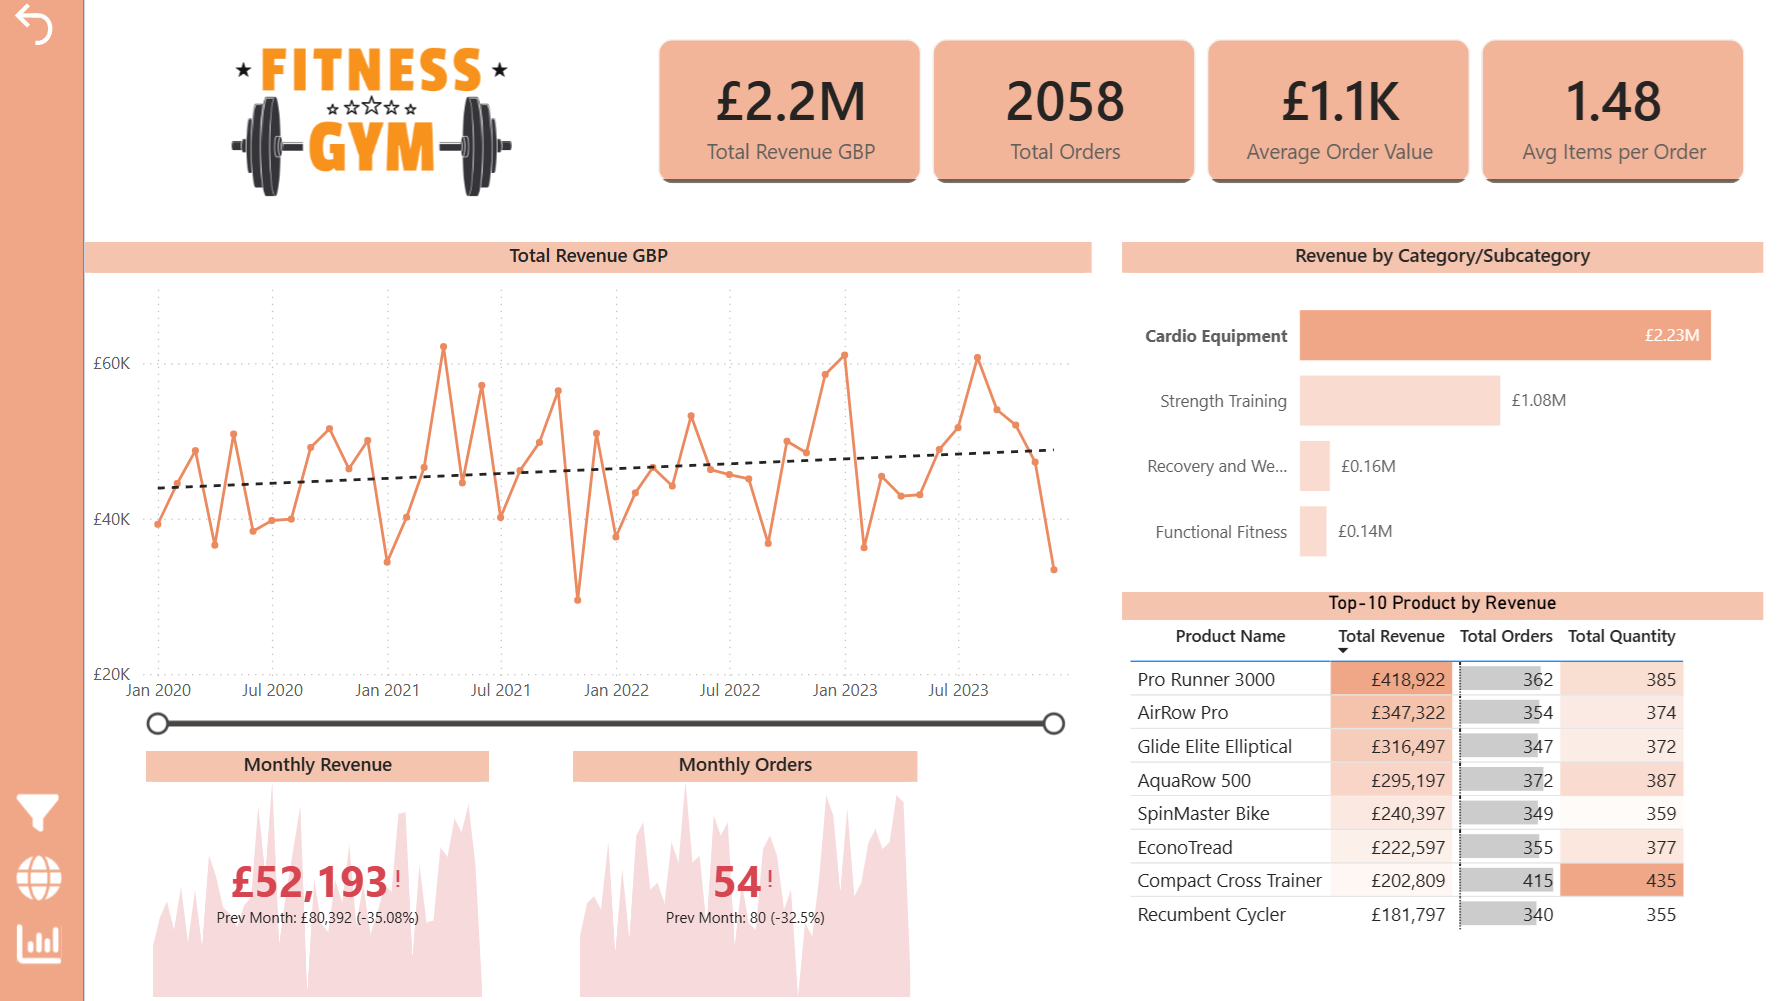

The page's visual inventory and layout, read from the dashboard file:
{"tool":"powerbi","page":{"name":"Page 1","canvas":[1280,720],"ordinal":0},"visuals":[{"type":"cardVisual","fields":{"Data":["Table Measures.Total Revenue GBP","Table Measures.Total Orders","Table Measures.Average Order Value","Table Measures.Avg Items per Order"]},"box":[467.7,25.4,789.2,113.1],"z":0},{"type":"lineChart","fields":{"Category":["date.date.Variation.Date Hierarchy.Year","date.date.Variation.Date Hierarchy.Quarter","date.date.Variation.Date Hierarchy.Month"],"Y":["Table Measures.Total Revenue GBP"]},"box":[63.6,175.5,719.1,354.5],"z":1000},{"type":"barChart","title":"Revenue by Category/Subcategory","fields":{"Category":["products.category_name Hierarchy.category_name","products.category_name Hierarchy.subcategory_name","date.date"],"Y":["Table Measures.Total Revenue GBP"]},"box":[804.6,175.6,457.8,249.8],"z":2000},{"type":"kpi","title":"Monthly Revenue","fields":{"Goal":["Table Measures.Previous Month Revenue"],"Indicator":["Table Measures.Total Revenue GBP"],"TrendLine":["date.Start of Month"]},"box":[107.3,539.3,245.4,180.8],"z":3000},{"type":"kpi","title":"Monthly Orders","fields":{"Goal":["Table Measures.Previous Month Orders"],"Indicator":["Table Measures.Total Orders"],"TrendLine":["date.Start of Month"]},"box":[412.2,539.3,246.2,180.8],"z":4000},{"type":"tableEx","title":"Top-10 Product by Revenue","fields":{"Values":["products.product_name","Table Measures.Total Revenue GBP","Table Measures.Total Orders","Table Measures.Total Quantity"]},"box":[804.6,425.4,457.8,294.6],"z":5000},{"type":"image","box":[94.6,0,347.7,175.4],"z":6000},{"type":"shape","box":[0,0,63.5,720.1],"z":7000},{"type":"actionButton","box":[7.3,0,100,40],"z":8000},{"type":"actionButton","title":"Open sel","box":[10.8,564.6,40.8,38.5],"z":9000},{"type":"actionButton","box":[10.8,610,40.8,40],"z":11000},{"type":"actionButton","box":[10.8,656.9,40.8,40],"z":12000}]}

Visuals, with their boxes on the page's 1280x720 design canvas (x1, y1, x2, y2). These are canvas units, not pixel positions in the 1784x1001 screenshot, which may show the page scaled, cropped or inside an application window:
cardVisual - Table Measures.Total Revenue GBP x Table Measures.Total Orders: [468,25,1257,138]
lineChart - date.date.Variation.Date Hierarchy.Year x date.date.Variation.Date Hierarchy.Quarter: [64,176,783,530]
"Revenue by Category/Subcategory" barChart: [805,176,1262,425]
"Monthly Revenue" kpi: [107,539,353,720]
"Monthly Orders" kpi: [412,539,658,720]
"Top-10 Product by Revenue" tableEx: [805,425,1262,720]
image: [95,0,442,175]
shape: [0,0,64,720]
actionButton: [7,0,107,40]
"Open sel" actionButton: [11,565,52,603]
actionButton: [11,610,52,650]
actionButton: [11,657,52,697]
